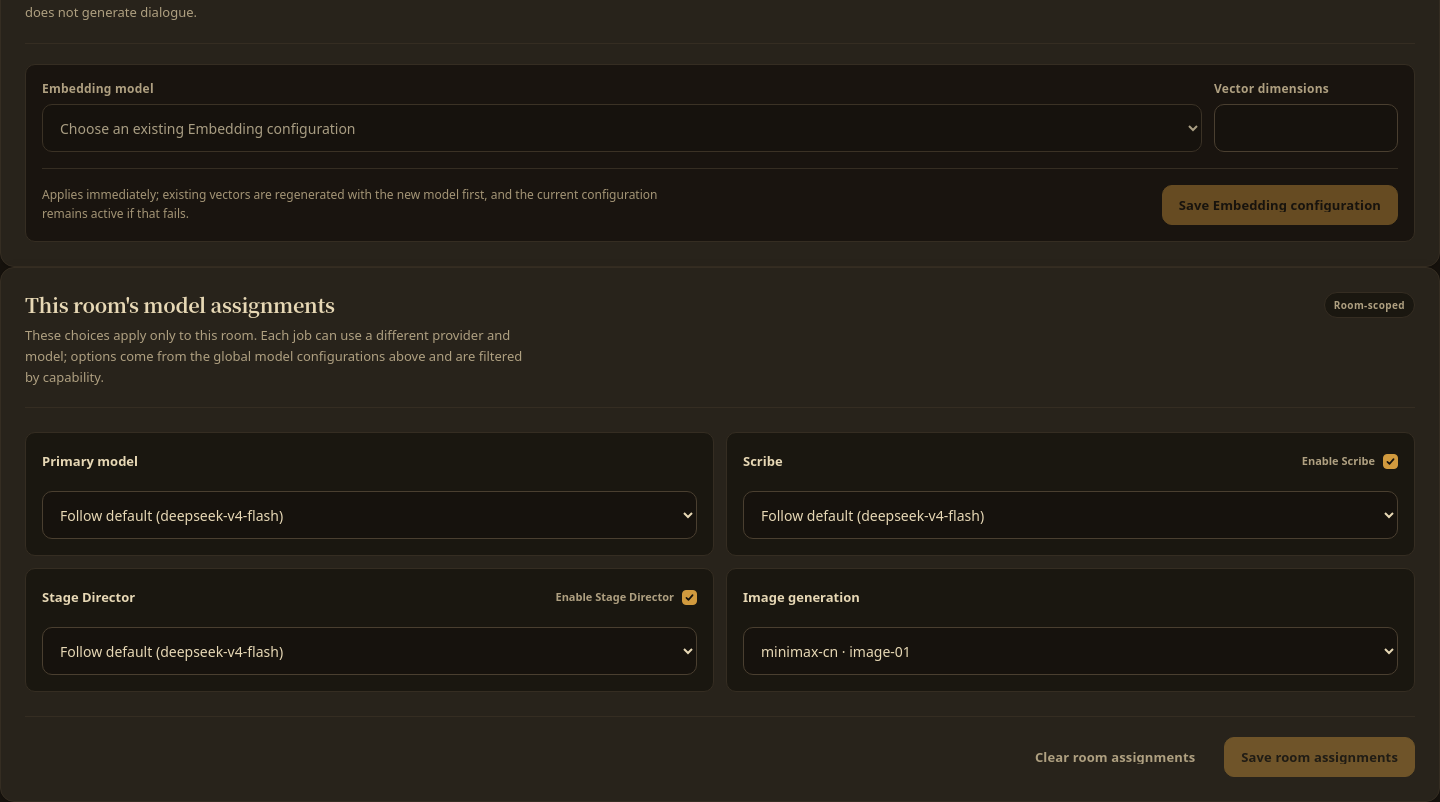
Test: ModelScreen room imagegen assignment › sends the chosen imagegen on save and keeps it after the server ack
The width and height of the screenshot is (1440, 802).
(page scrolled)
Select "siliconflow · kolors" in the dropdown labelled "Image generation". click: (1070, 651)
box: [743,627,1398,675]
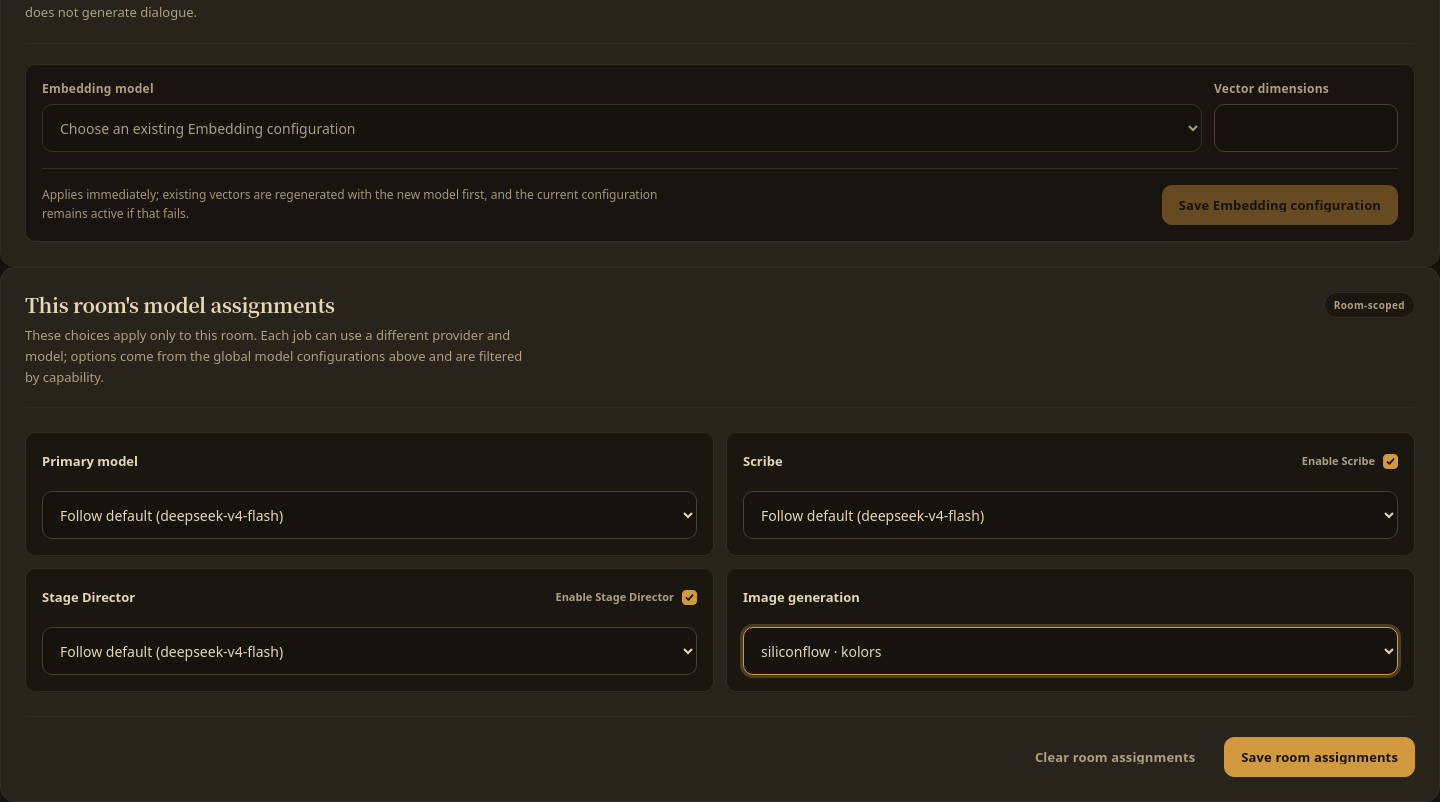
Result: the button "Save room assignments" is enabled
Click the button "Save room assignments". click: (1320, 757)
box: [1224,737,1415,777]
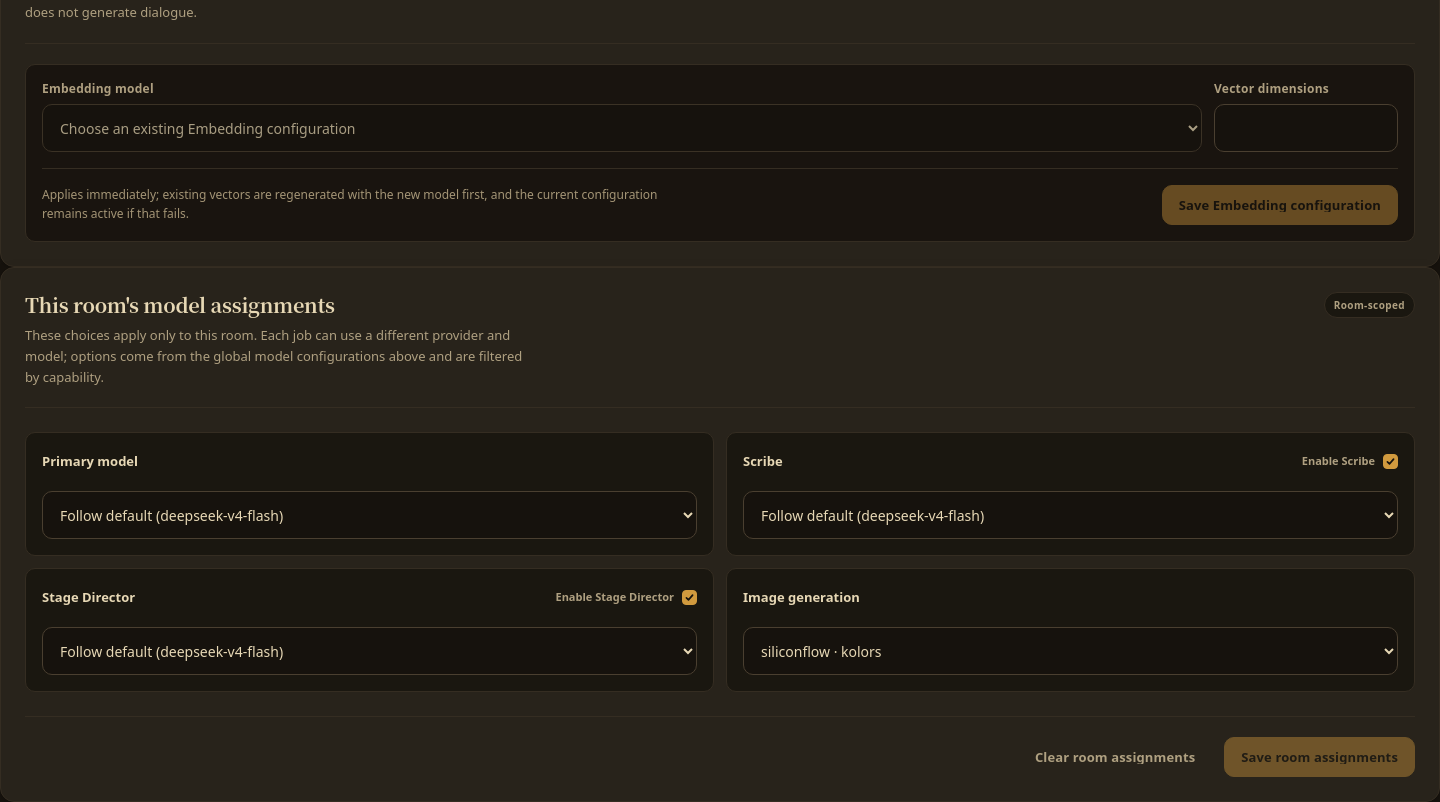
Result: the button "Save room assignments" is disabled at [1224,737,1415,777]
